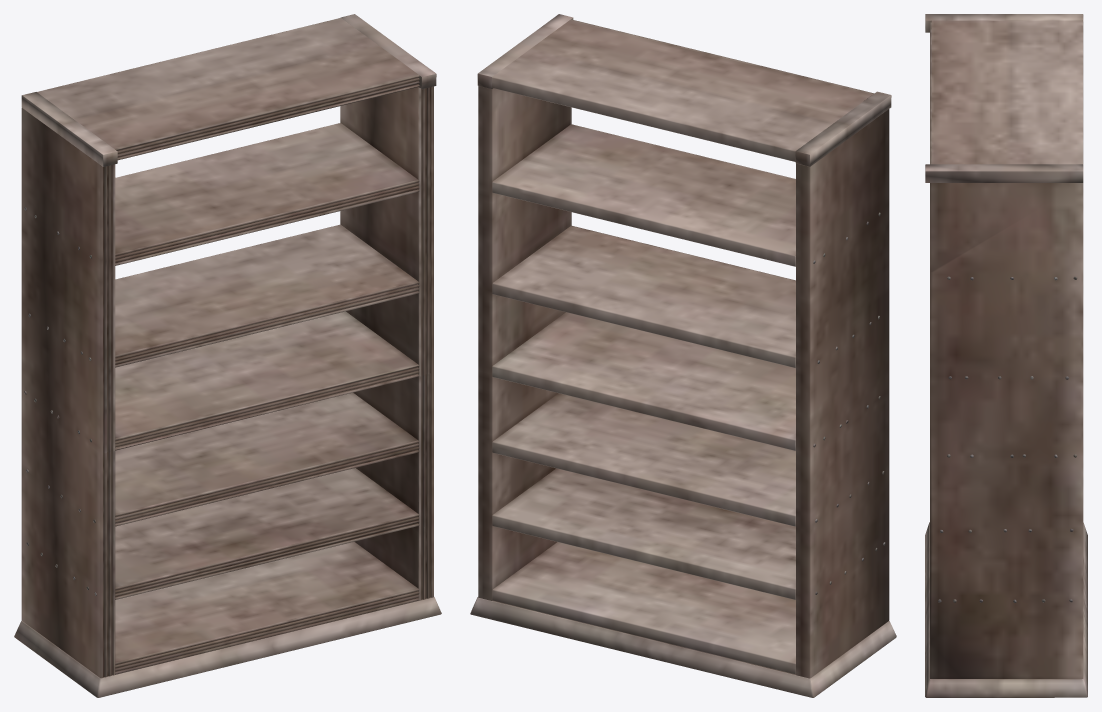
The model's file is bookshelf.glb.
3 renders of one model, left to right at view 1: azimuth 30°, elevation 25°; view 2: azimuth 150°, elevation 25°; view 3: azimuth 270°, elevation 25°, orthographic. The views are drawn at different scales.
Parts seen in each view (by area): view 1: wooden_bookshelf_worn; view 2: wooden_bookshelf_worn; view 3: wooden_bookshelf_worn.
Boxes of the visible parts, x1=… form: wooden_bookshelf_worn: x1=14, y1=14, x2=441, y2=697; wooden_bookshelf_worn: x1=470, y1=14, x2=896, y2=697; wooden_bookshelf_worn: x1=925, y1=14, x2=1087, y2=697.
Bounding box in the file's own units: 1.37 × 2.06 × 0.5814.
1 material, 1 textured.
